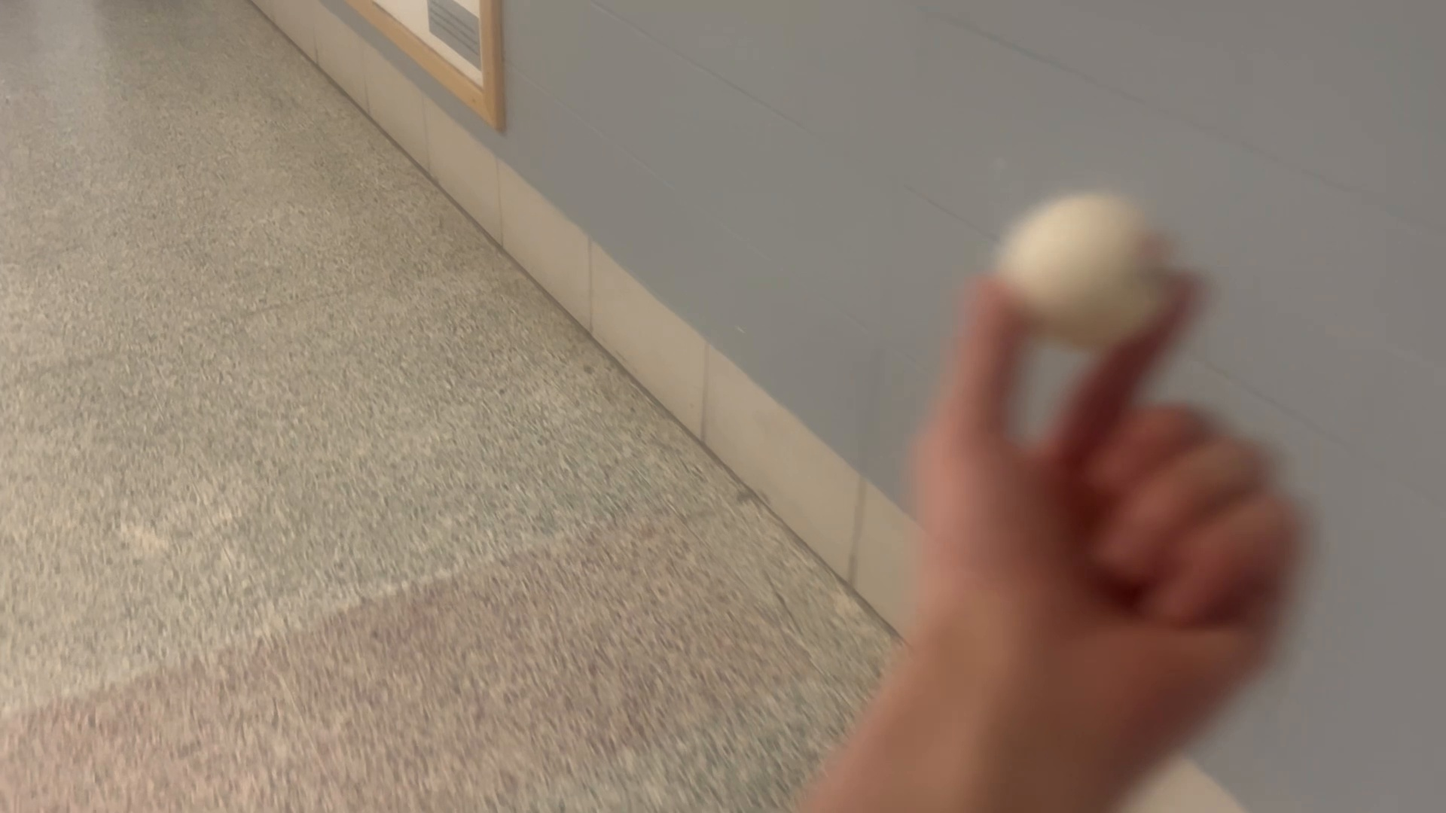Ball: (1003, 194, 1169, 359)
